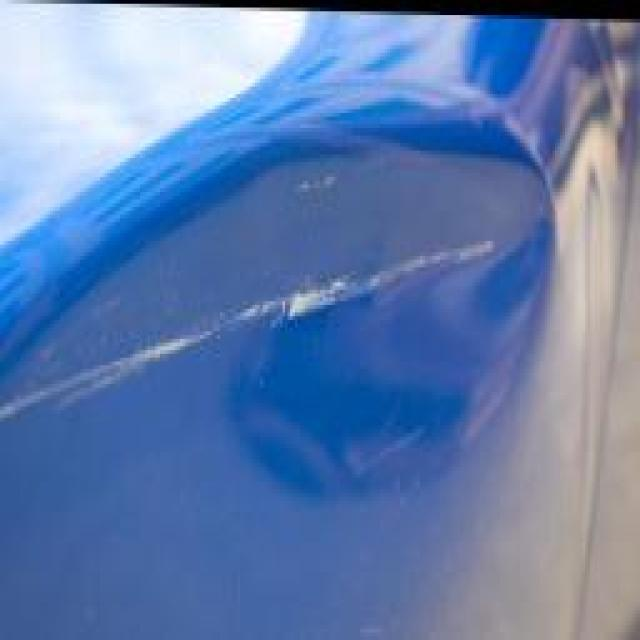Bumper: (0, 117, 580, 621)
